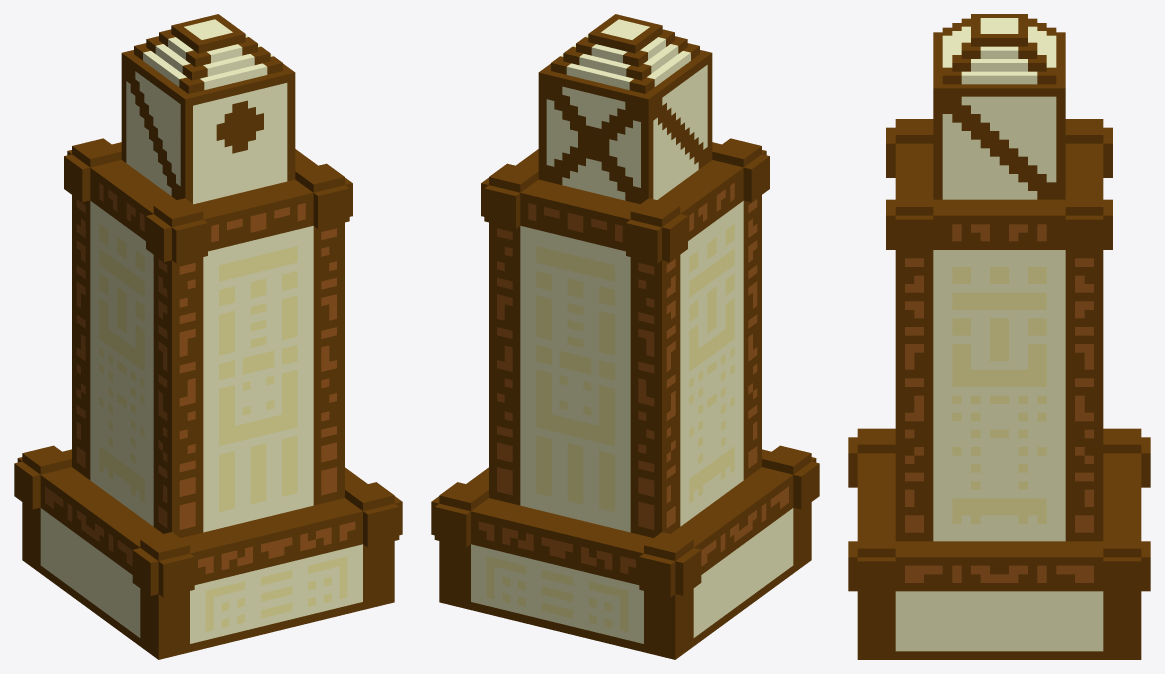
File: WindMill.obj
3 views of the same model, side by side, from view 1: azimuth 30°, elevation 25°; view 2: azimuth 150°, elevation 25°; view 3: azimuth 270°, elevation 25° (orthographic). The views are drawn at different scales.
Size of the model in its own units: 32 by 67 by 32.
1 material, 1 textured.
